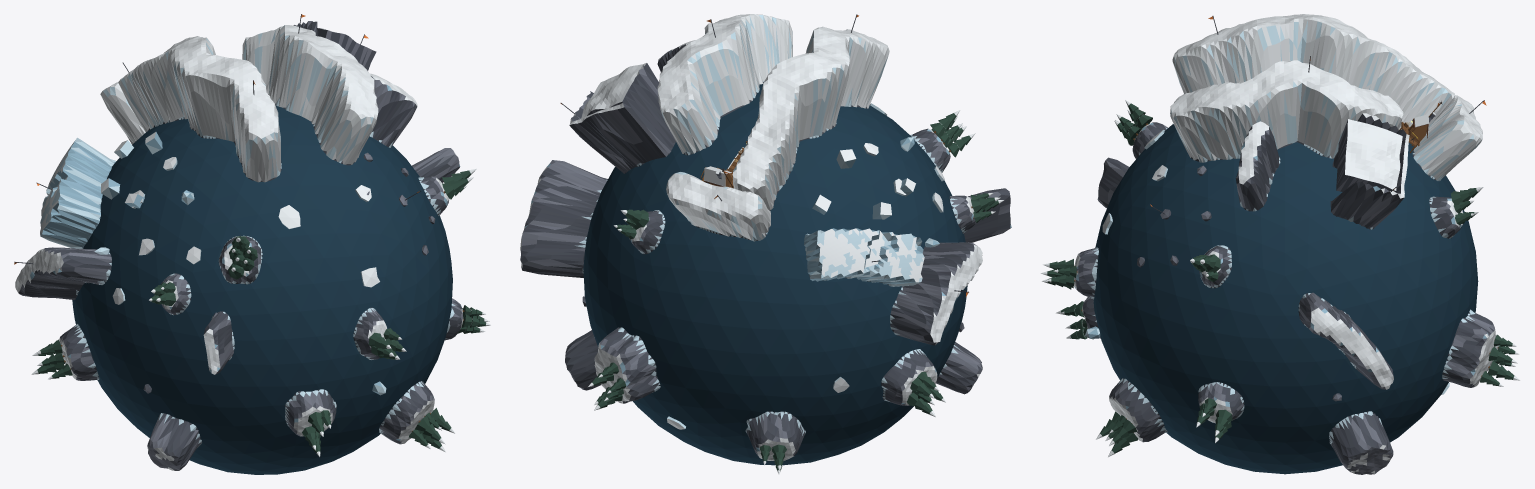
File: w_002-frostmere.glb
3 renders of one model, left to right at view 1: azimuth 30°, elevation 25°; view 2: azimuth 150°, elevation 25°; view 3: azimuth 270°, elevation 25°, orthographic.
Visible parts, largest first — view 1: Water_Sphere, Island_fjord-west-1, Island_fjord-east-1, Island_west-crag, Island_glacier-1, Island_fjord-east-2, Island_fjord-west-2, Island_fjord-west-3, Island_rime-holm, Island_cove-south, Island_larch-isle, Island_glacier-2 (+11 smaller); view 2: Water_Sphere, Island_east-crag, Island_west-crag, Island_fjord-west-2, Island_fjord-west-3, Island_north-wall, Island_fjord-east-2, Island_fjord-east-3, Island_fjord-west-1, Island_glacier-2, Island_aurora-isle, Island_cove-cliff-west (+13 smaller); view 3: Water_Sphere, Island_fjord-east-1, Island_fjord-west-1, Island_fjord-west-2, Island_fjord-east-2, Island_fjord-west-3, Cave_Roof, Island_east-crag, Island_north-wall, Island_cairn-isle, Island_fjord-east-3, Island_aurora-isle (+10 smaller).
Part boxes in pixels (x1=…): Water_Sphere: x1=72, y1=105, x2=452, y2=474; Island_fjord-west-1: x1=207, y1=56, x2=281, y2=182; Island_fjord-east-1: x1=302, y1=44, x2=378, y2=165; Island_west-crag: x1=15, y1=247, x2=111, y2=299; Island_glacier-1: x1=40, y1=168, x2=102, y2=248; Island_fjord-east-2: x1=268, y1=25, x2=337, y2=116; Island_fjord-west-2: x1=165, y1=36, x2=220, y2=138; Island_fjord-west-3: x1=118, y1=41, x2=184, y2=132; Island_rime-holm: x1=147, y1=413, x2=201, y2=470; Island_cove-south: x1=370, y1=73, x2=417, y2=147; Island_larch-isle: x1=379, y1=381, x2=434, y2=444; Island_glacier-2: x1=46, y1=137, x2=116, y2=195; Water_Sphere: x1=583, y1=84, x2=967, y2=465; Island_east-crag: x1=520, y1=160, x2=607, y2=277; Island_west-crag: x1=890, y1=242, x2=982, y2=345; Island_fjord-west-2: x1=759, y1=46, x2=849, y2=145; Island_fjord-west-3: x1=733, y1=91, x2=798, y2=210; Island_north-wall: x1=666, y1=172, x2=770, y2=241; Island_fjord-east-2: x1=676, y1=21, x2=759, y2=117; Island_fjord-east-3: x1=657, y1=52, x2=720, y2=155; Island_fjord-west-1: x1=805, y1=26, x2=889, y2=108; Island_glacier-2: x1=804, y1=228, x2=875, y2=281; Island_aurora-isle: x1=594, y1=327, x2=660, y2=403; Island_cove-cliff-west: x1=616, y1=65, x2=675, y2=158; Water_Sphere: x1=1093, y1=124, x2=1478, y2=474; Island_fjord-east-1: x1=1170, y1=75, x2=1284, y2=162; Island_fjord-west-1: x1=1172, y1=17, x2=1290, y2=93; Island_fjord-west-2: x1=1272, y1=14, x2=1375, y2=88; Island_fjord-east-2: x1=1257, y1=60, x2=1346, y2=151; Island_fjord-west-3: x1=1362, y1=35, x2=1454, y2=129; Cave_Roof: x1=1336, y1=119, x2=1402, y2=191; Island_east-crag: x1=1298, y1=292, x2=1393, y2=389; Island_north-wall: x1=1412, y1=95, x2=1482, y2=180; Island_cairn-isle: x1=1329, y1=411, x2=1393, y2=474; Island_fjord-east-3: x1=1315, y1=81, x2=1403, y2=158; Island_aurora-isle: x1=1442, y1=309, x2=1498, y2=387.
Bounding box in the file's own units: 13.1 × 12.17 × 12.43.
